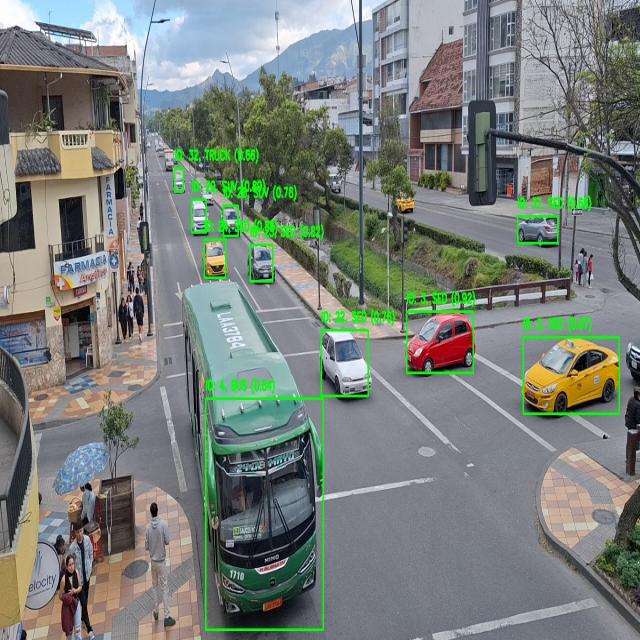BUS: (182, 282, 324, 616)
SED: (524, 338, 619, 413), (408, 313, 475, 372), (321, 331, 371, 396)
SUV: (518, 216, 558, 244)
